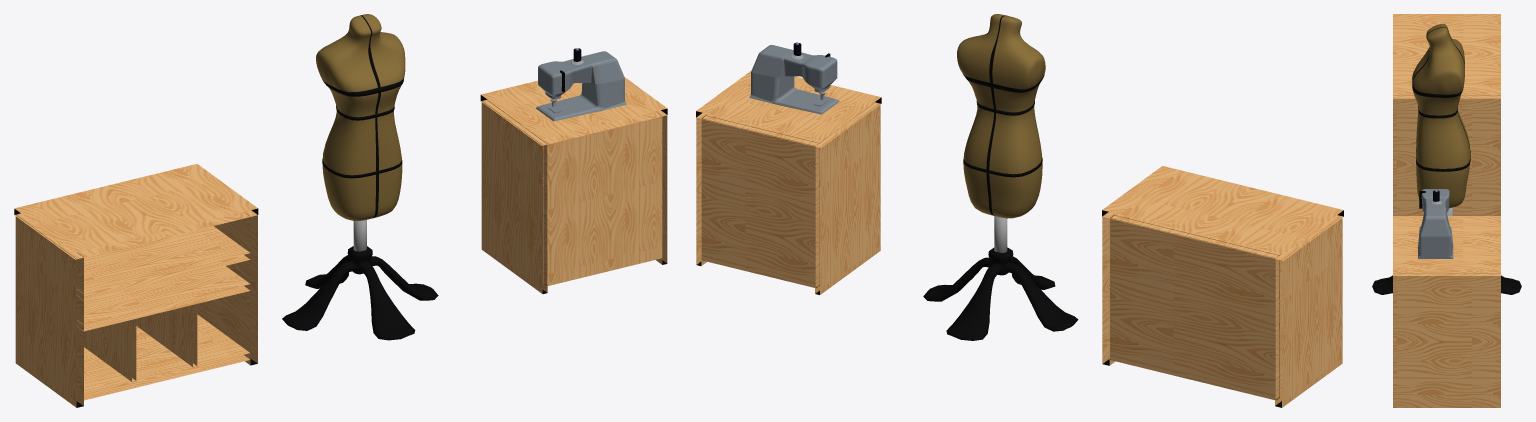
Rendered from mesadetrabajo.obj.
The picture shows the model from 3 angles, left to right: view 1: azimuth 30°, elevation 25°; view 2: azimuth 150°, elevation 25°; view 3: azimuth 270°, elevation 25°; orthographic projection. The views are drawn at different scales.
Visible parts, largest first — view 1: Cube.008, Cube.002, Cube.001_Cube.010; view 2: Cube.008, Cube.002, Cube.001_Cube.010; view 3: Cube.002, Cube.008, Cube.001_Cube.010.
Part boxes in pixels (x1,y1,x2,y2): Cube.008: (14,164,258,407); Cube.002: (480,48,667,293); Cube.001_Cube.010: (282,14,438,340); Cube.008: (1102,166,1343,407); Cube.002: (696,42,881,294); Cube.001_Cube.010: (923,14,1078,340); Cube.002: (1393,189,1500,407); Cube.008: (1393,14,1500,215); Cube.001_Cube.010: (1372,24,1521,294).
Size of the model in its own units: 14.57 by 6.96 by 3.59.
